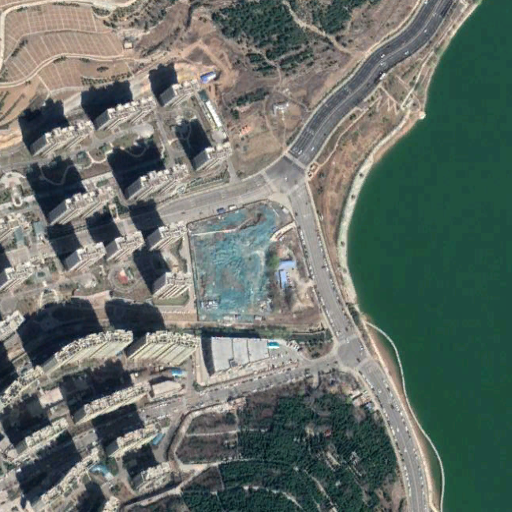cw: (187, 200, 325, 325)
